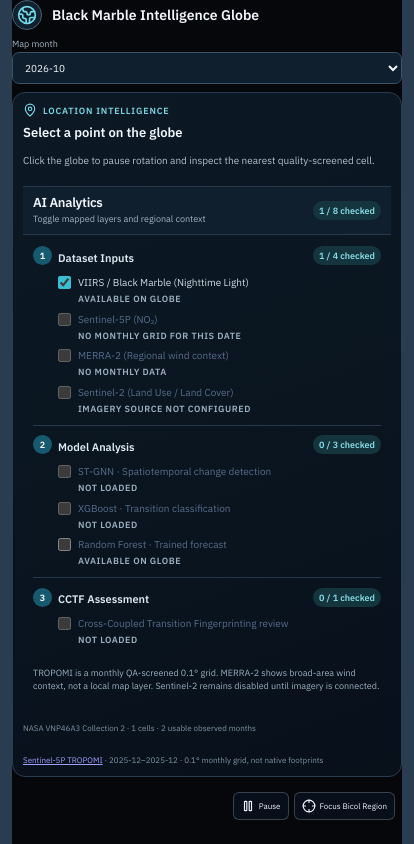
Scenario: disables observed layers for forecast-only months
Select "2026-11 · forecast" in the dropdown named "Globe map month": (207, 68) left=12, top=52, right=402, bottom=84
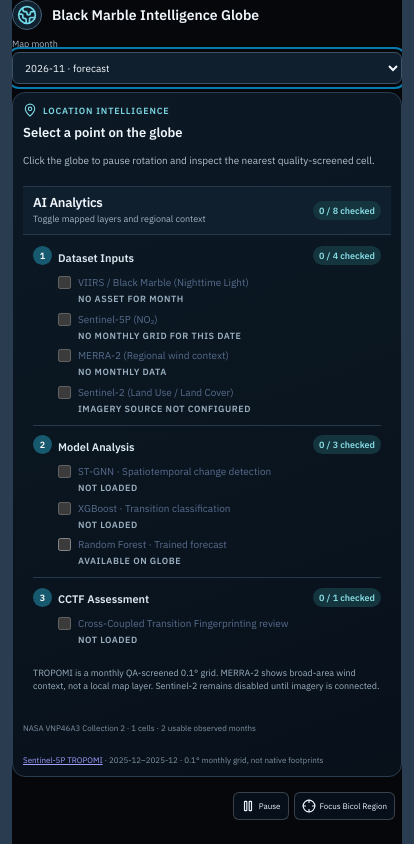
Expected: the checkbox labelled "Random Forest · Trained forecast AVAILABLE ON GLOBE" is enabled, left=58, top=538, right=71, bottom=551
Now the checkbox labelled "VIIRS / Black Marble (Nighttime Light) NO ASSET FOR MONTH" is disabled, box left=58, top=276, right=71, bottom=289
Now the checkbox labelled "VIIRS / Black Marble (Nighttime Light) NO ASSET FOR MONTH" is not checked, box left=58, top=276, right=71, bottom=289
